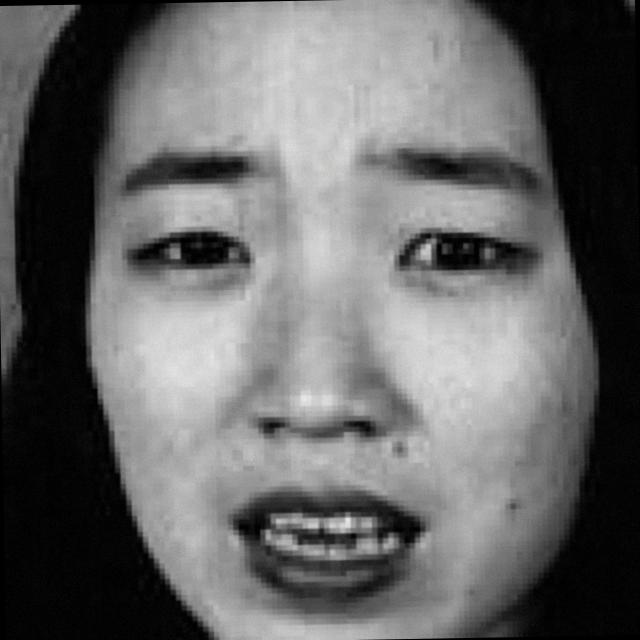fear: (86, 41, 570, 634)
